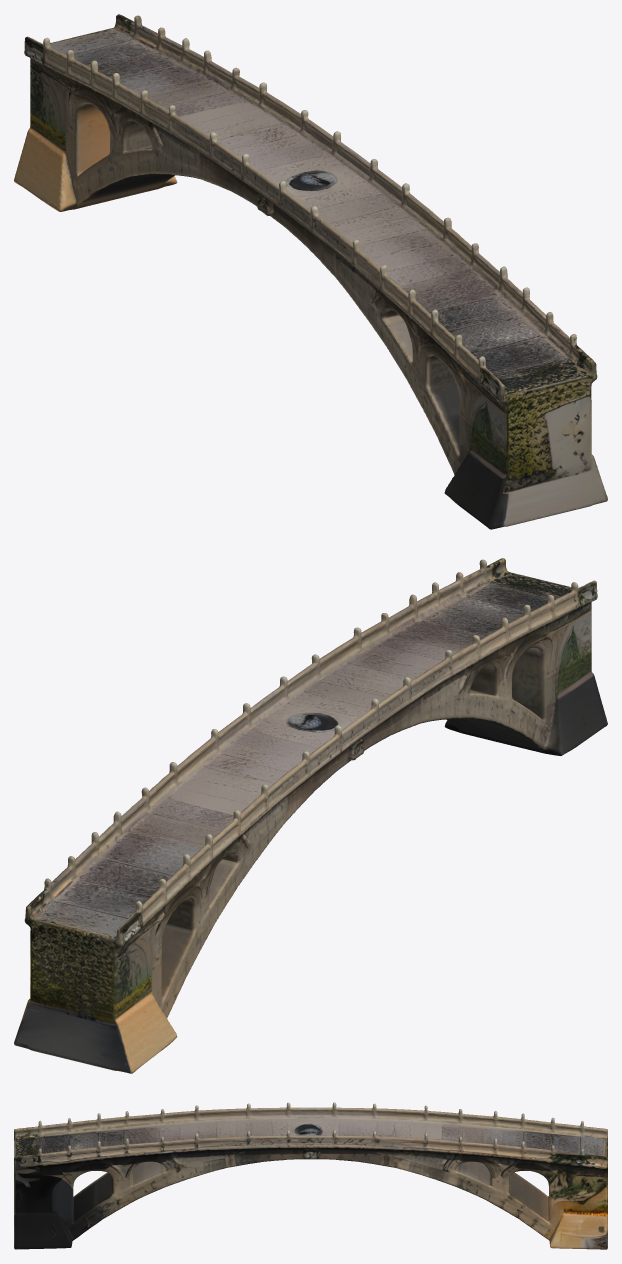
Rendered from zhaozhou-bridge.glb.
3 views of the same model, one above another, from view 1: azimuth 30°, elevation 25°; view 2: azimuth 150°, elevation 25°; view 3: azimuth 270°, elevation 25° (orthographic). The views are drawn at different scales.
Visible parts, largest first — view 1: tripo_node_1b061003-c4dd-4639-8046-e64ed34a327c; view 2: tripo_node_1b061003-c4dd-4639-8046-e64ed34a327c; view 3: tripo_node_1b061003-c4dd-4639-8046-e64ed34a327c.
Boxes of the visible parts, x1=… form: tripo_node_1b061003-c4dd-4639-8046-e64ed34a327c: x1=14, y1=14, x2=607, y2=529; tripo_node_1b061003-c4dd-4639-8046-e64ed34a327c: x1=14, y1=558, x2=607, y2=1073; tripo_node_1b061003-c4dd-4639-8046-e64ed34a327c: x1=14, y1=1102, x2=607, y2=1249.
Size of the model in its own units: 0.144 by 0.2155 by 1.
1 material, 1 textured.
